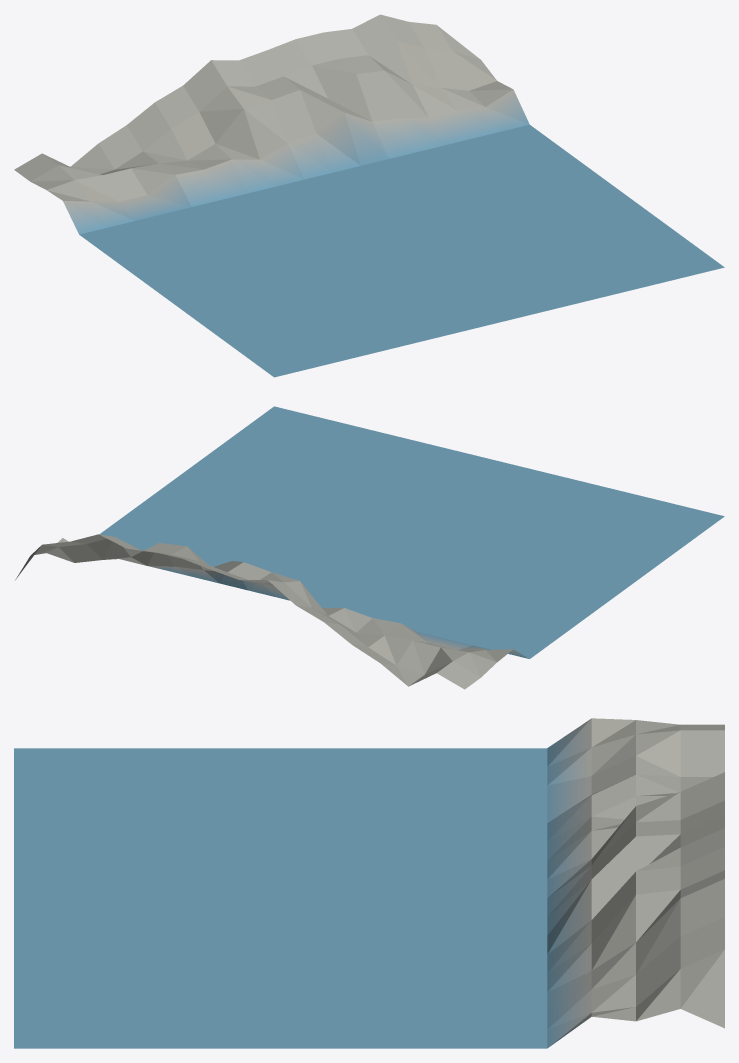
3 views of the same model, one above another, from view 1: azimuth 30°, elevation 25°; view 2: azimuth 150°, elevation 25°; view 3: azimuth 270°, elevation 25° (orthographic). The views are drawn at different scales.
Bounding box in the file's own units: 32 × 5.64 × 32.
